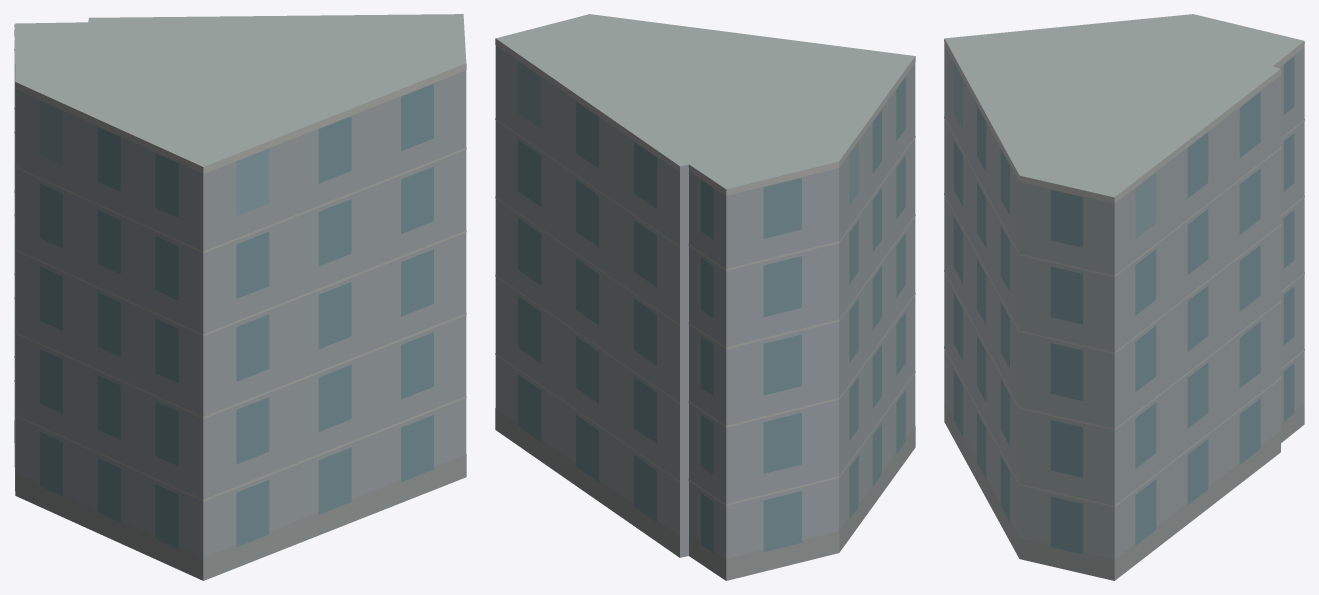
The model's file is survey-upis-32807651.glb.
3 views of the same model, side by side, from view 1: azimuth 30°, elevation 25°; view 2: azimuth 150°, elevation 25°; view 3: azimuth 270°, elevation 25° (orthographic). The views are drawn at different scales.
Visible parts, largest first — view 1: survey-upis-32807651.tmp; view 2: survey-upis-32807651.tmp; view 3: survey-upis-32807651.tmp.
Part boxes in pixels (left/top/right/bottom): survey-upis-32807651.tmp: left=14, top=14, right=466, bottom=580; survey-upis-32807651.tmp: left=495, top=14, right=915, bottom=580; survey-upis-32807651.tmp: left=944, top=14, right=1304, bottom=580.
Bounding box in the file's own units: 15 × 14.6 × 12.46.
